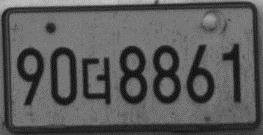0: (48, 45, 78, 106)
1: (217, 42, 251, 105)
6: (185, 44, 217, 104)
8: (151, 44, 182, 104), (118, 45, 148, 104)
9: (15, 45, 45, 107)
더: (80, 56, 114, 105)
